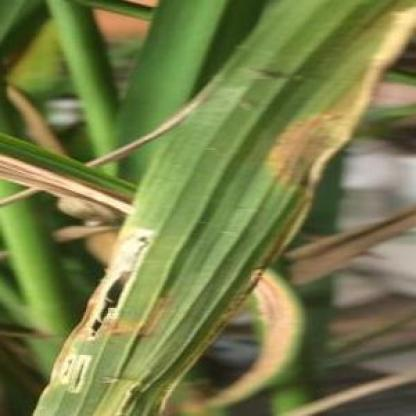Blight: (26, 1, 416, 416)
